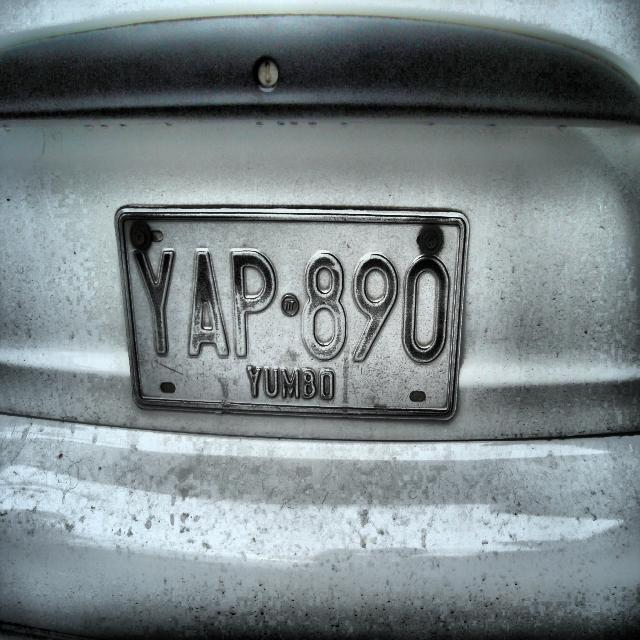plate: (114, 210, 470, 421)
